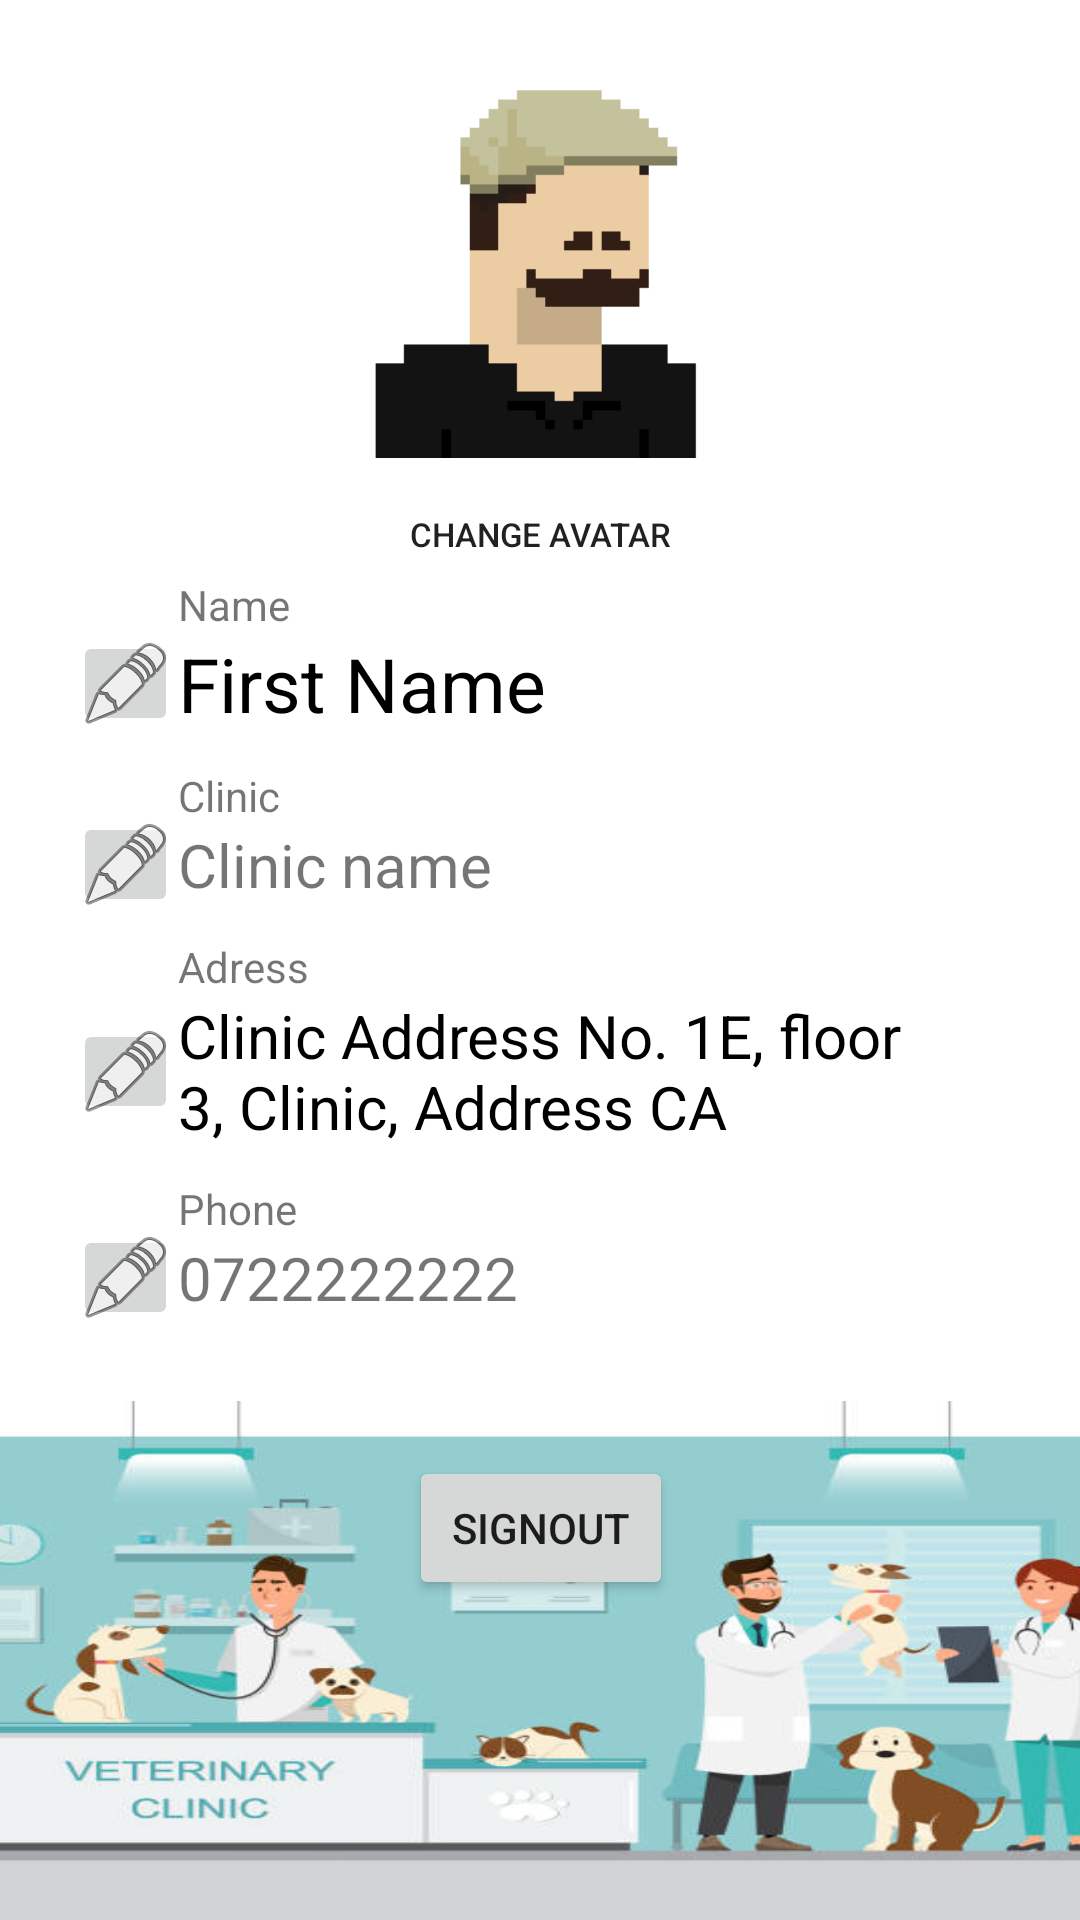

Icons on this 1080x1920 Android screen, each with its box as (x1, y1, x2, y2):
Edit address button: (85, 643, 166, 724), (85, 824, 166, 905), (85, 1031, 166, 1112), (85, 1237, 166, 1318)
